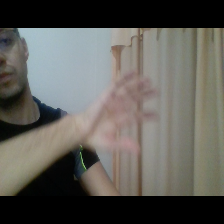left: (59, 61, 163, 155)
